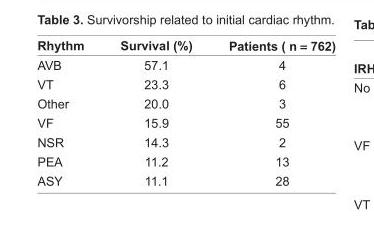table: (36, 36, 335, 187)
table column: (209, 36, 335, 187), (101, 36, 209, 187), (36, 36, 101, 187)
table column header: (36, 36, 335, 55)
table row: (36, 112, 335, 132), (36, 36, 335, 55), (36, 55, 335, 74), (36, 74, 335, 93), (36, 93, 335, 112), (36, 132, 335, 151), (36, 151, 335, 170), (36, 170, 335, 187)
